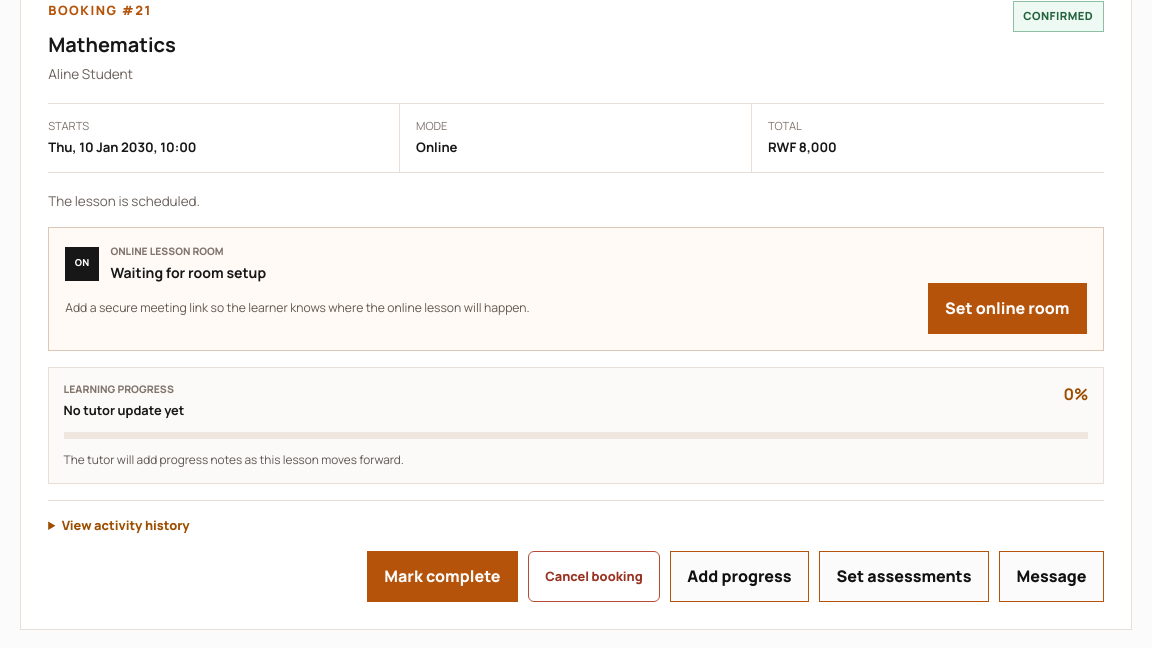
BookingsPage progress › opens assessment management inside the corresponding booking
(page scrolled)
Click the button "Set assessments".
click(904, 576)  # box [819, 551, 989, 602]
(page scrolled)
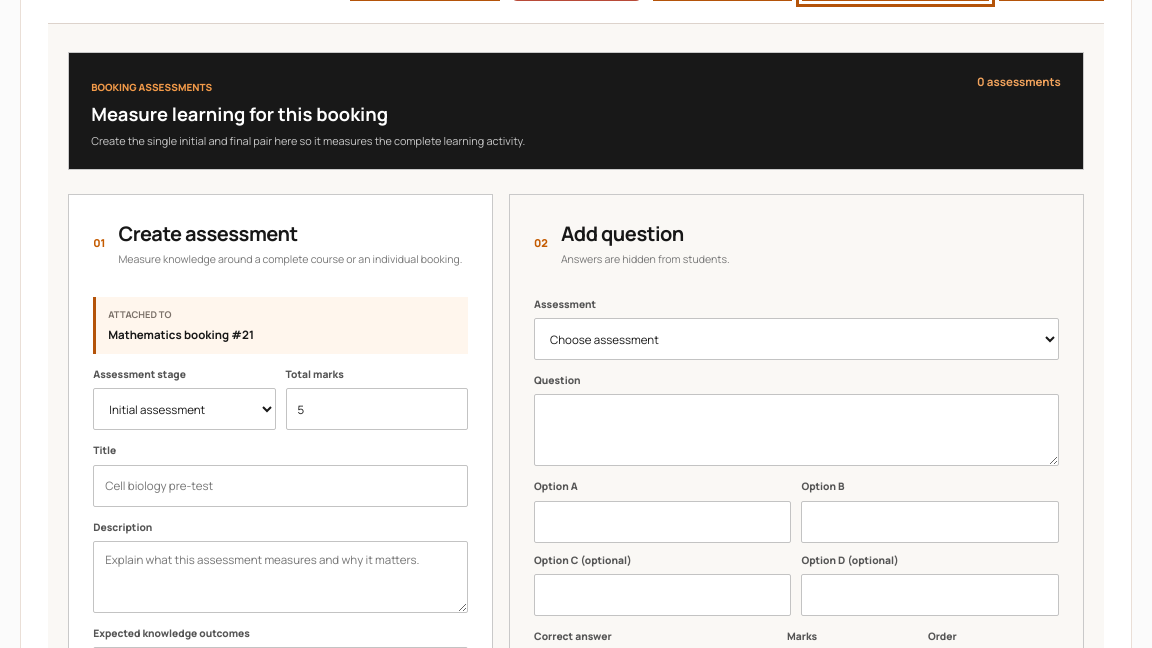
Result: the heading "Measure learning for this booking" is shown at [91, 101, 388, 127]
Result: the text "Mathematics booking #21" is shown at [108, 327, 254, 342]
